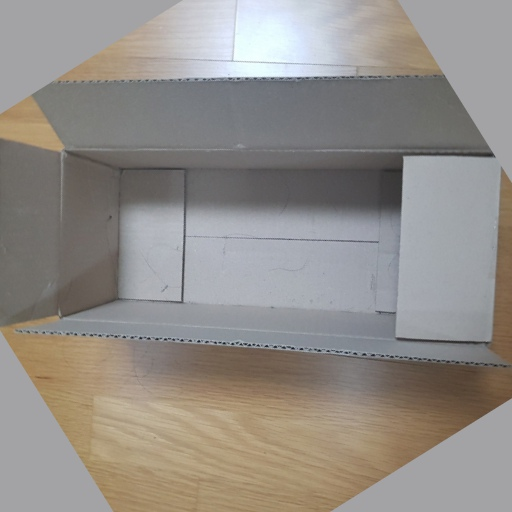Paper_0: (2, 73, 512, 373)
